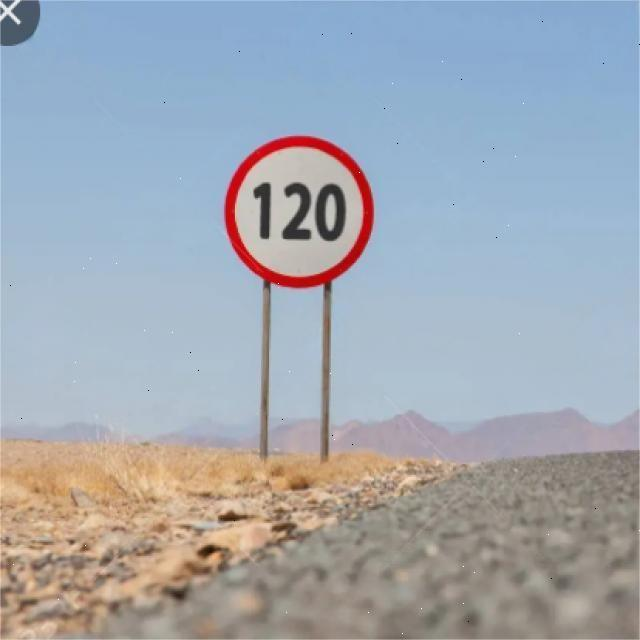speed limit 120: (221, 135, 375, 288)
